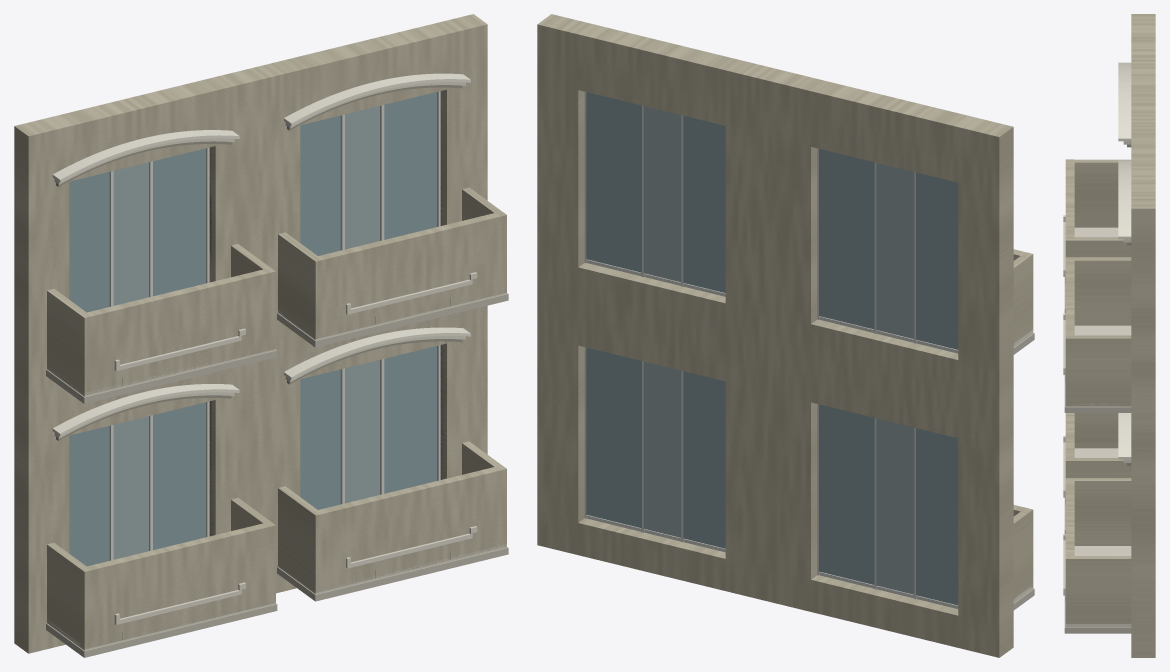
The model's file is dafang-hotel-segmental-window-balconies-near.glb.
3 views of the same model, side by side, from view 1: azimuth 30°, elevation 25°; view 2: azimuth 150°, elevation 25°; view 3: azimuth 270°, elevation 25° (orthographic). The views are drawn at different scales.
Parts seen in each view (by area): view 1: 大方饭店福建南路弧形窗楣与悬挑栏板; view 2: 大方饭店福建南路弧形窗楣与悬挑栏板; view 3: 大方饭店福建南路弧形窗楣与悬挑栏板.
Boxes of the visible parts, x1,y1,x2,y2 form: 大方饭店福建南路弧形窗楣与悬挑栏板: [14, 14, 508, 657]; 大方饭店福建南路弧形窗楣与悬挑栏板: [537, 14, 1034, 657]; 大方饭店福建南路弧形窗楣与悬挑栏板: [1063, 14, 1155, 657].
Bounding box in the file's own units: 6 × 6.46 × 1.21.
Materials: 11 (1 with a texture image).
